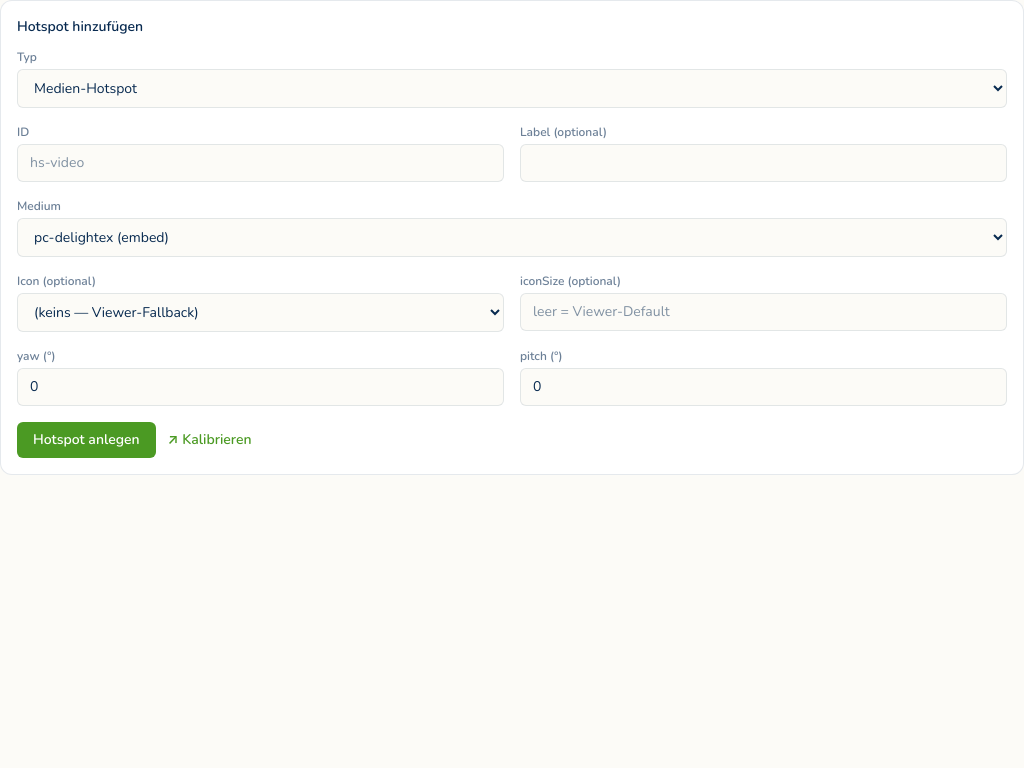
StationHotspotAddForm › mit Medien und Dialog: Typ-Umschaltung
Expected: the dropdown labelled "Medium" is shown, left=17, top=218, right=1007, bottom=257
Select "Dialog-Hotspot (Maskottchen)" in the dropdown labelled "Typ" at (512, 88), box left=17, top=69, right=1007, bottom=108
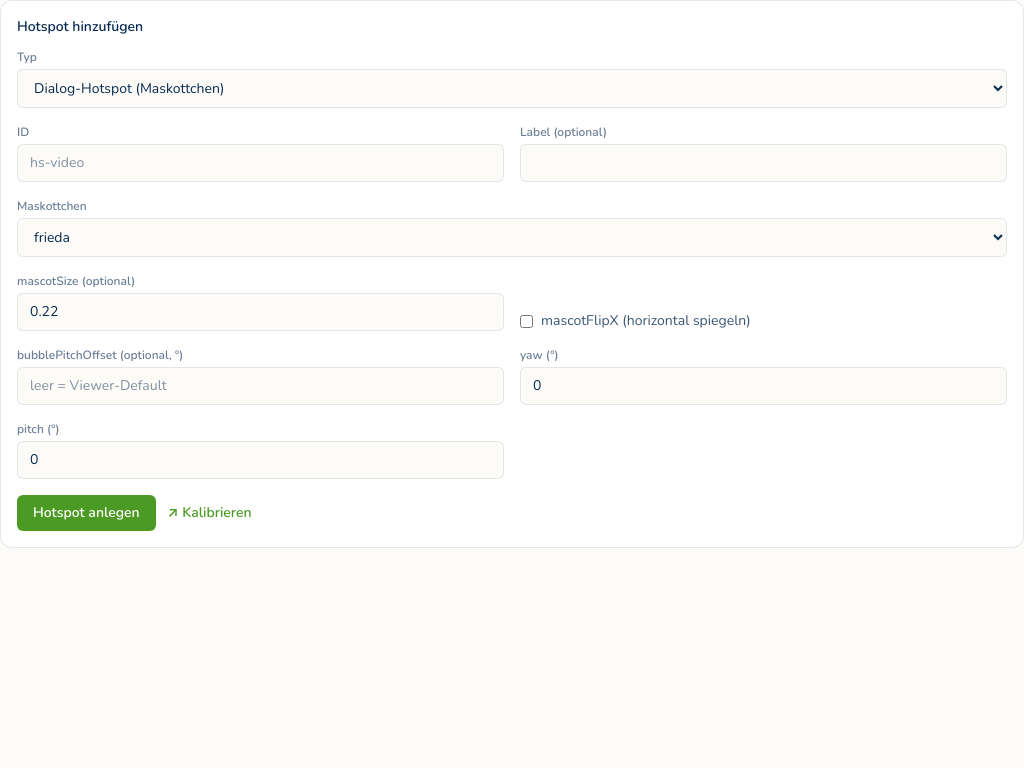
Expected: the dropdown labelled "Maskottchen" is shown, left=17, top=218, right=1007, bottom=257
Result: the label labelled "Medium" is gone
